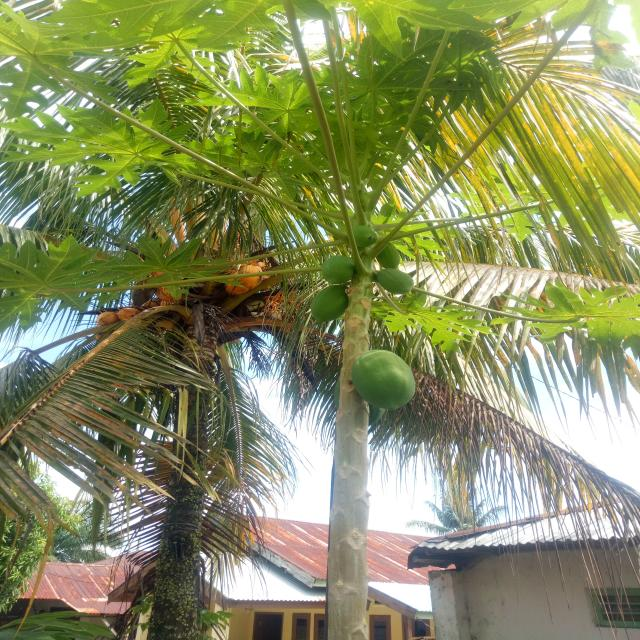Pepaya unrippen: (350, 344, 418, 418), (306, 288, 352, 327), (314, 253, 358, 284), (371, 265, 409, 294)
